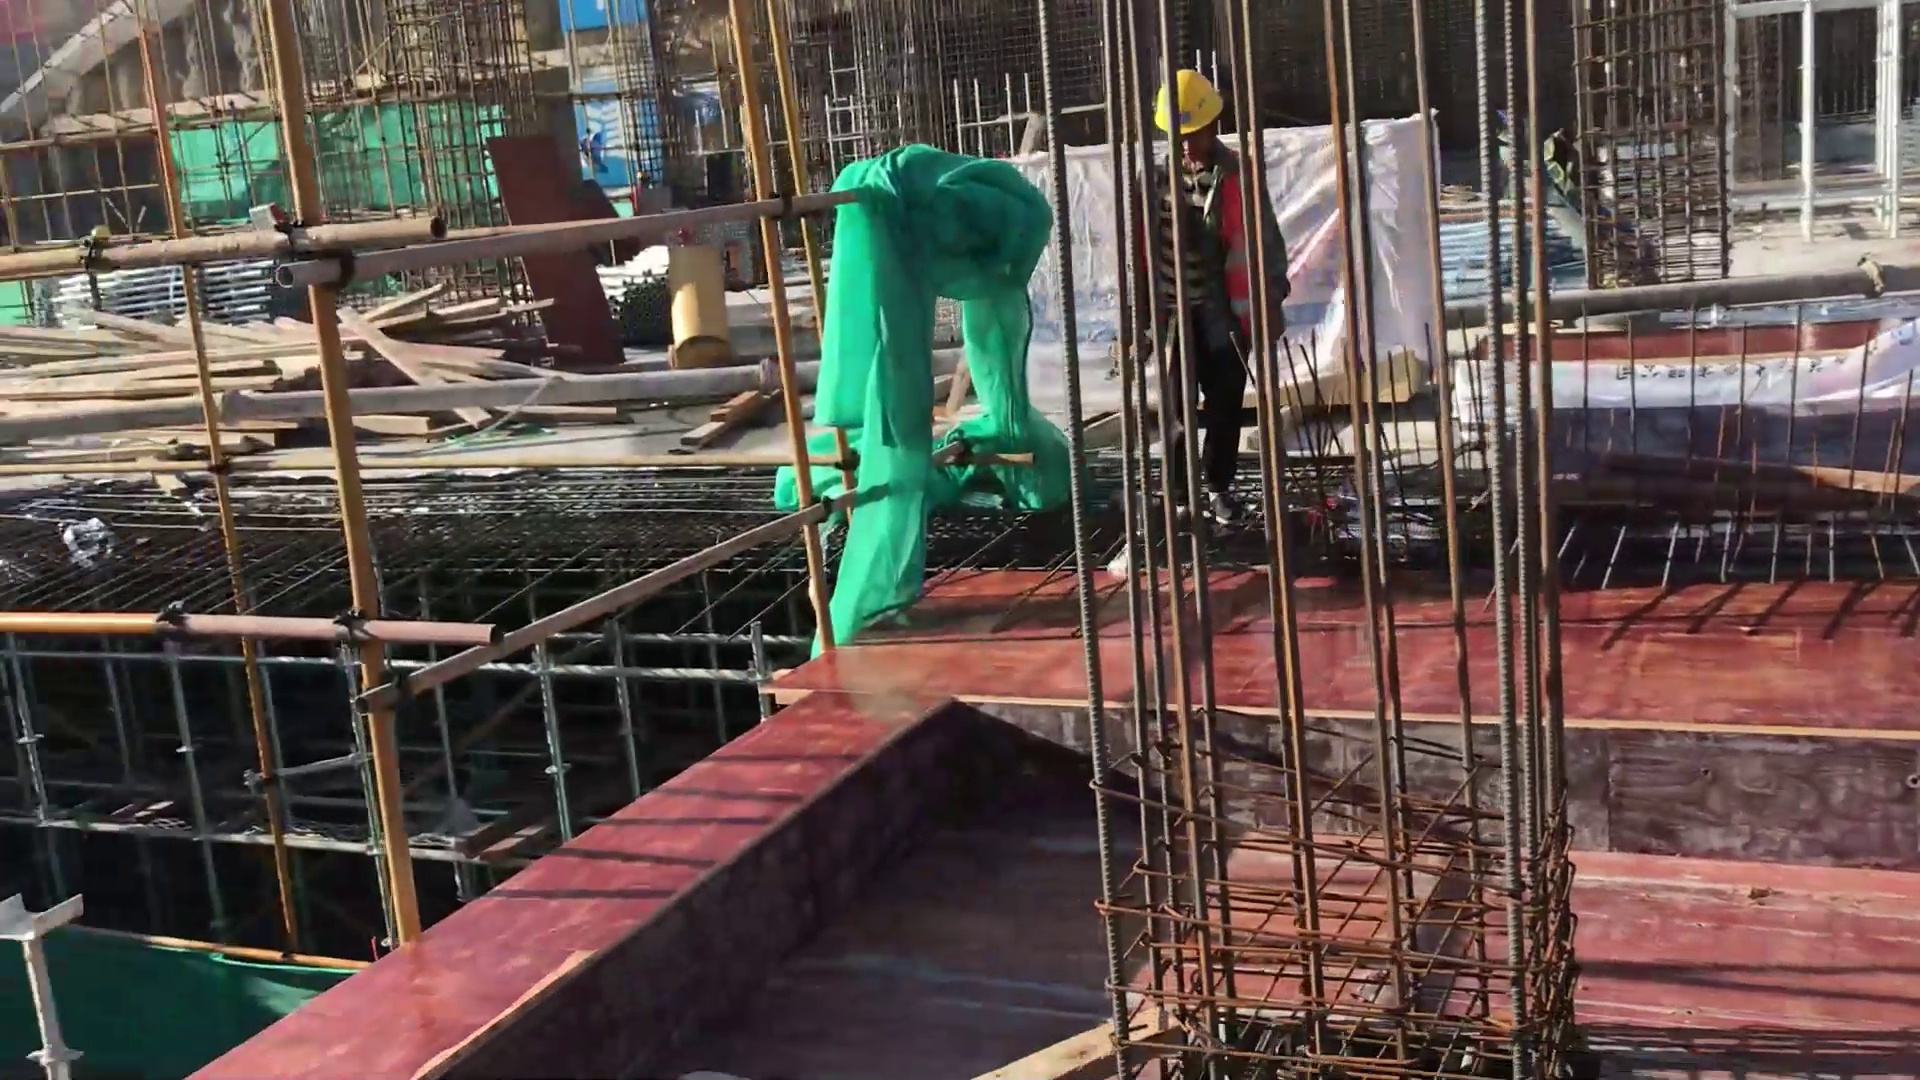helmet: (1150, 61, 1232, 127)
vest: (1117, 141, 1284, 345)
